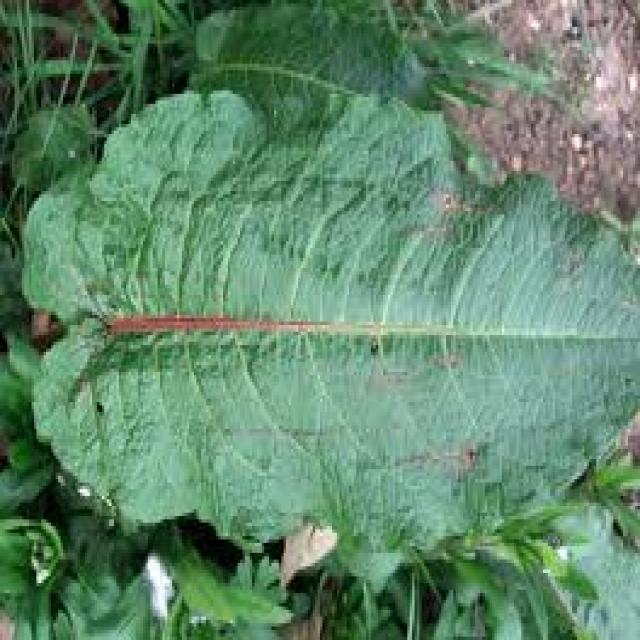organic waste: (22, 71, 640, 624)
